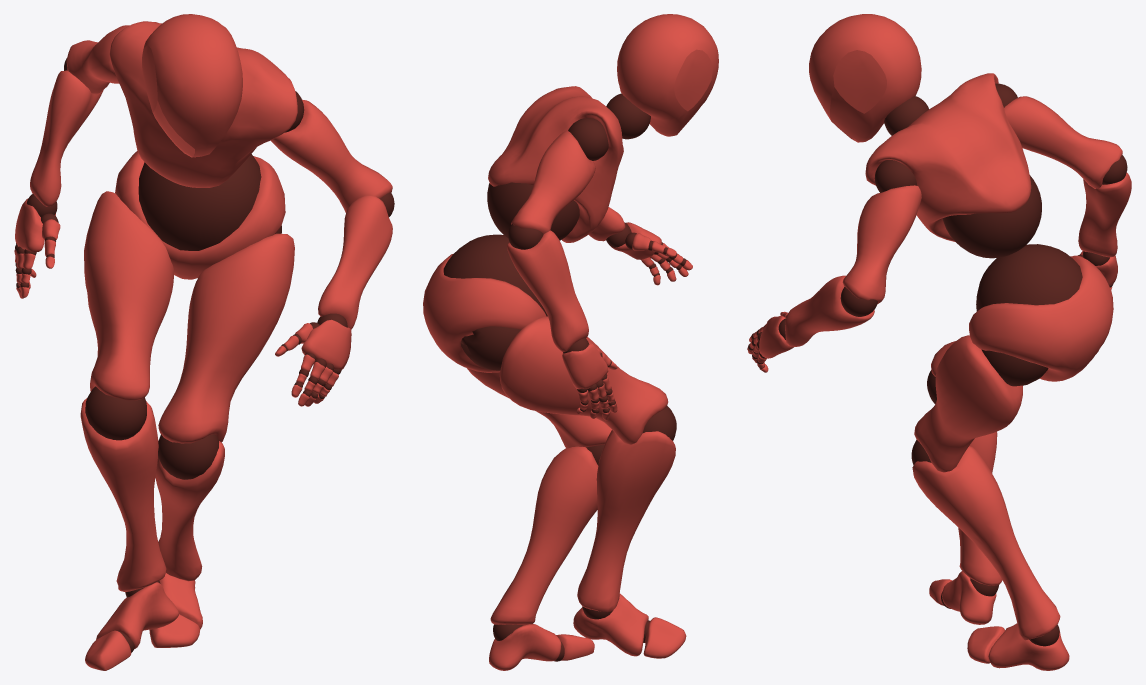
3 renders of one model, left to right at view 1: azimuth 30°, elevation 25°; view 2: azimuth 150°, elevation 25°; view 3: azimuth 270°, elevation 25°, orthographic. The views are drawn at different scales.
Parts seen in each view (by area): view 1: Beta_Surface, Beta_Joints; view 2: Beta_Surface, Beta_Joints; view 3: Beta_Surface, Beta_Joints.
Boxes of the visible parts, <box> form: Beta_Surface: <box>14,14,392,670</box>; Beta_Joints: <box>15,58,394,652</box>; Beta_Surface: <box>423,14,718,670</box>; Beta_Joints: <box>443,93,686,661</box>; Beta_Surface: <box>747,14,1131,670</box>; Beta_Joints: <box>748,83,1127,646</box>.
Size of the model in its own units: 0.5738 by 1.47 by 0.8293.
